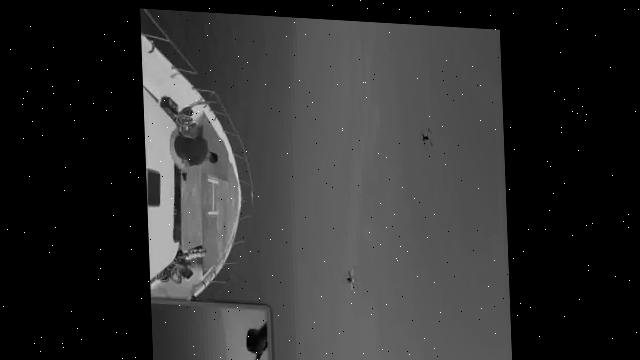drone: (415, 117, 440, 146), (340, 256, 359, 294)
